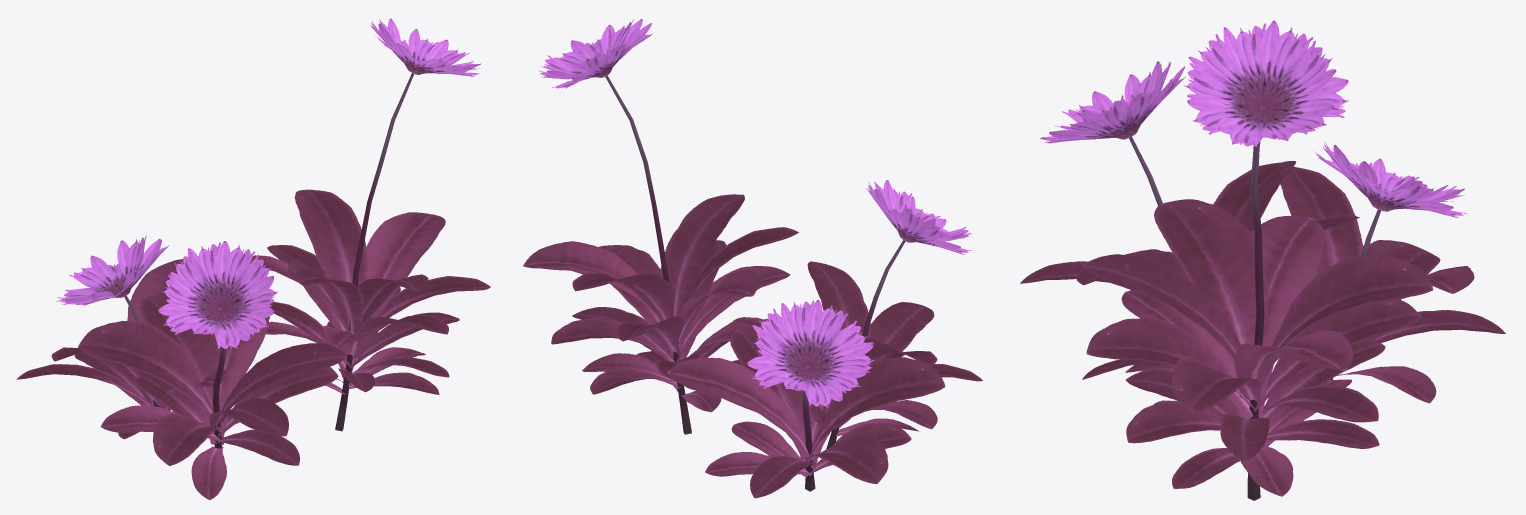
The picture shows the model from 3 angles, left to right: view 1: azimuth 30°, elevation 25°; view 2: azimuth 150°, elevation 25°; view 3: azimuth 270°, elevation 25°; orthographic projection. The views are drawn at different scales.
Parts seen in each view (by area): view 1: SM_GF_Gazania_01_LOD0; view 2: SM_GF_Gazania_01_LOD0; view 3: SM_GF_Gazania_01_LOD0.
Boxes of the visible parts, x1,y1,x2,y2 form: SM_GF_Gazania_01_LOD0: (16, 18, 490, 500); SM_GF_Gazania_01_LOD0: (523, 19, 982, 498); SM_GF_Gazania_01_LOD0: (1020, 20, 1505, 500).
Size of the model in its own units: 0.4226 by 0.39 by 0.3413.
Materials: 1 (1 with a texture image).
